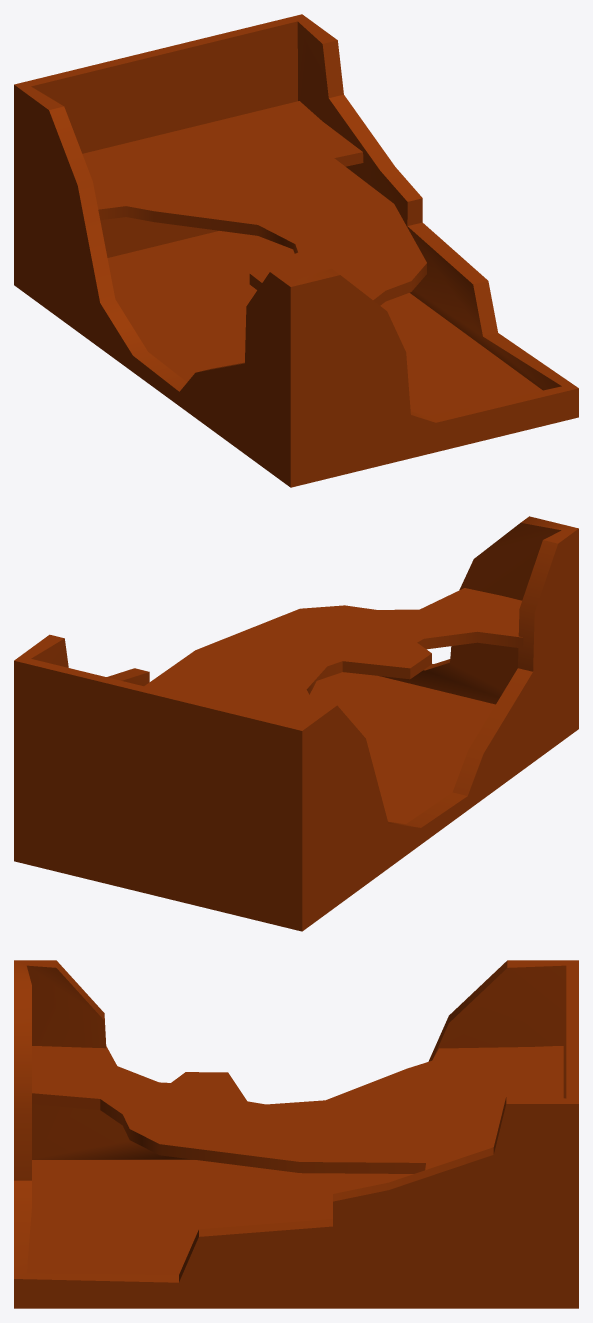
The model's file is SM_Bat1_destroyed.fbx.
3 renders of one model, top to bottom at view 1: azimuth 30°, elevation 25°; view 2: azimuth 150°, elevation 25°; view 3: azimuth 270°, elevation 25°, orthographic. The views are drawn at different scales.
Parts seen in each view (by area): view 1: Bat1_destroyed; view 2: Bat1_destroyed; view 3: Bat1_destroyed.
Part boxes in pixels (x1,y1,x2,y2): Bat1_destroyed: (14,14,578,487); Bat1_destroyed: (14,516,578,931); Bat1_destroyed: (14,960,578,1308).
Bounding box in the file's own units: 301 × 200 × 500.
